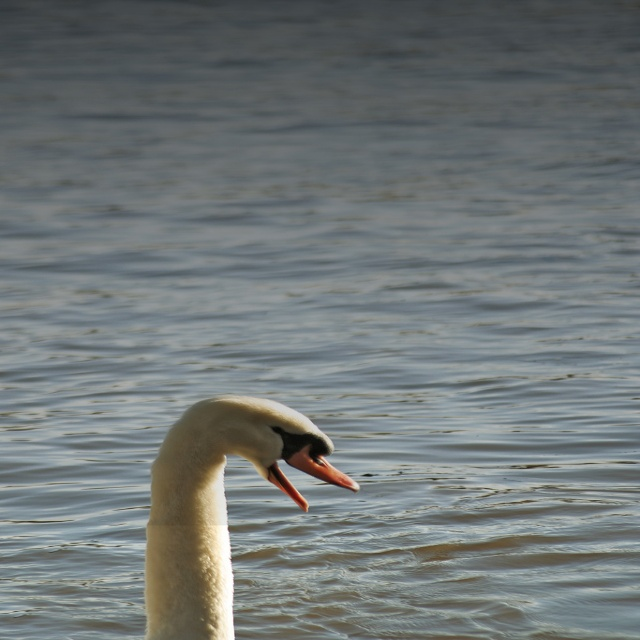Duck: (112, 398, 349, 629)
